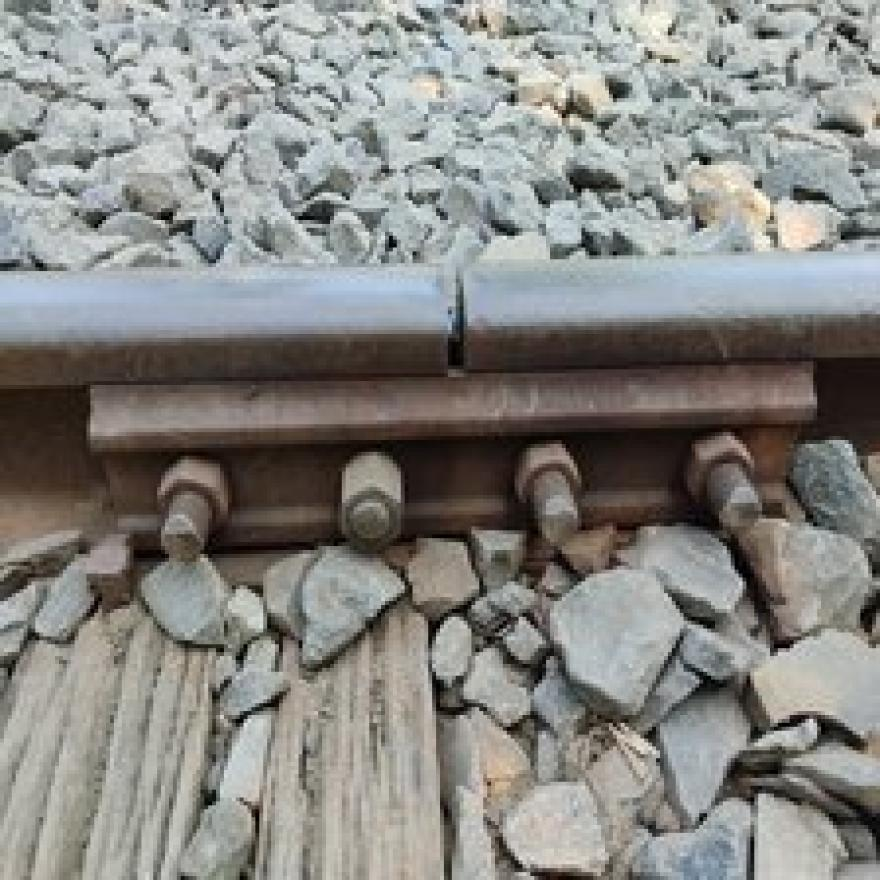railway-gap: (355, 224, 546, 406)
